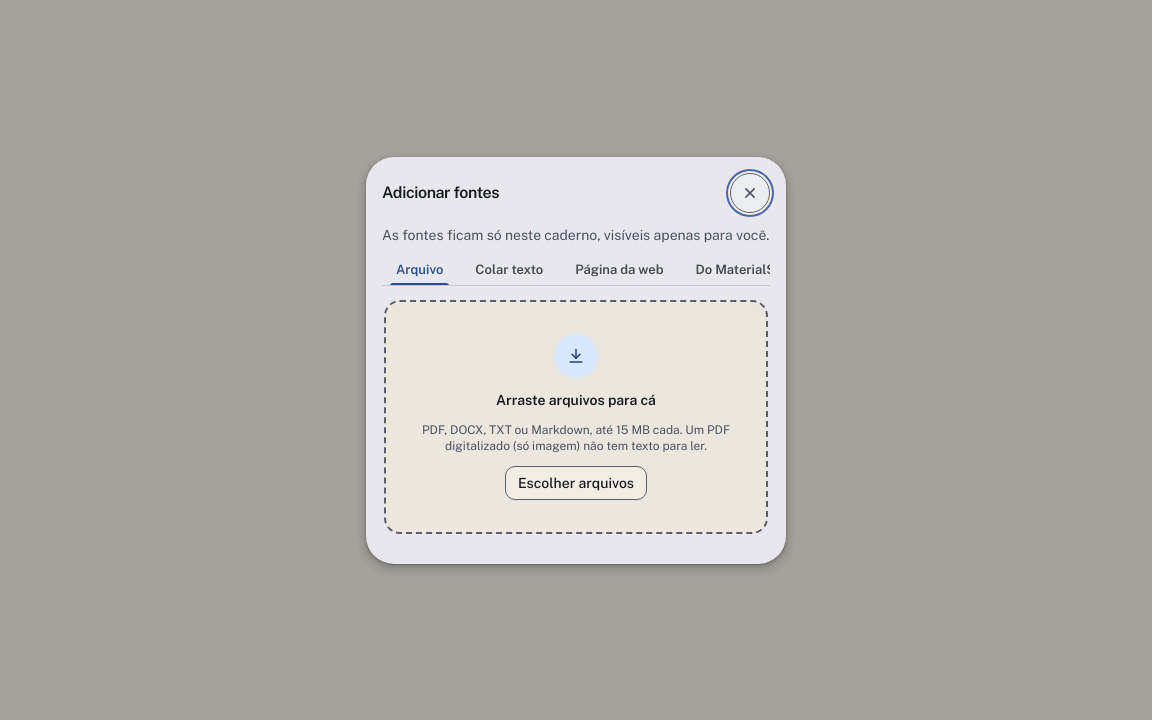
Scenario: AddSourcesDialog › offers the Link tab between pasted text and this app
Click the tab "Página da web" at (619, 269), box [561,252,678,286]
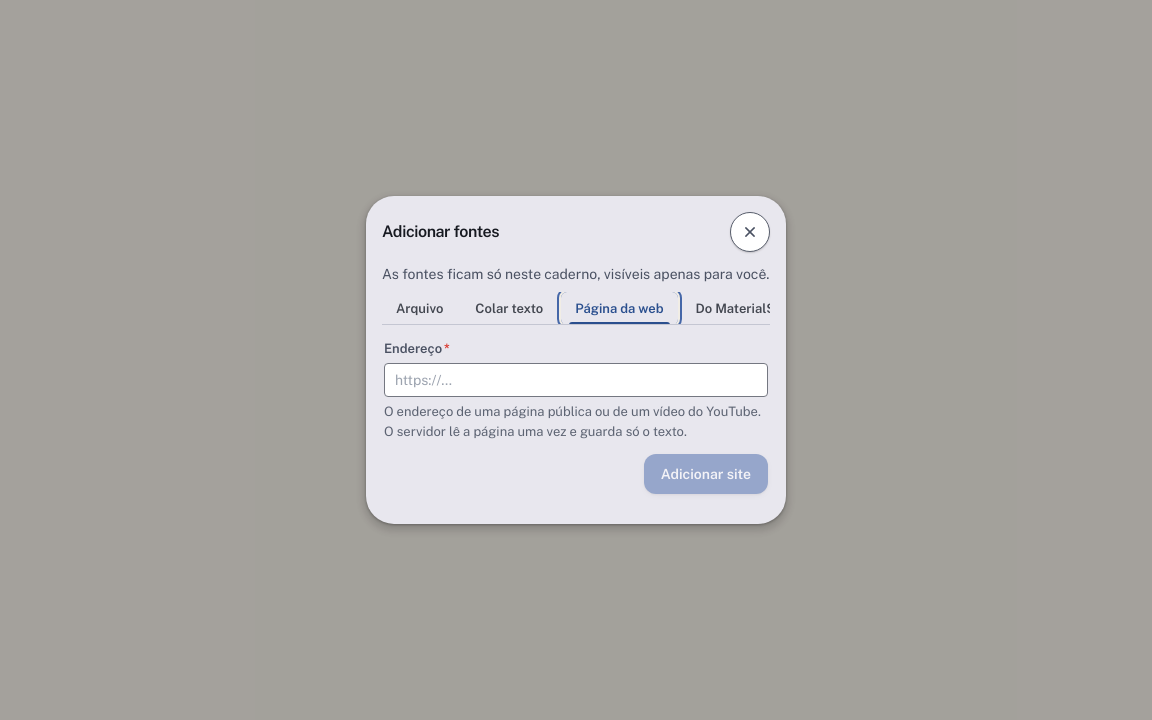
Expected: the button "Adicionar site" is shown, [644,454,768,494]
